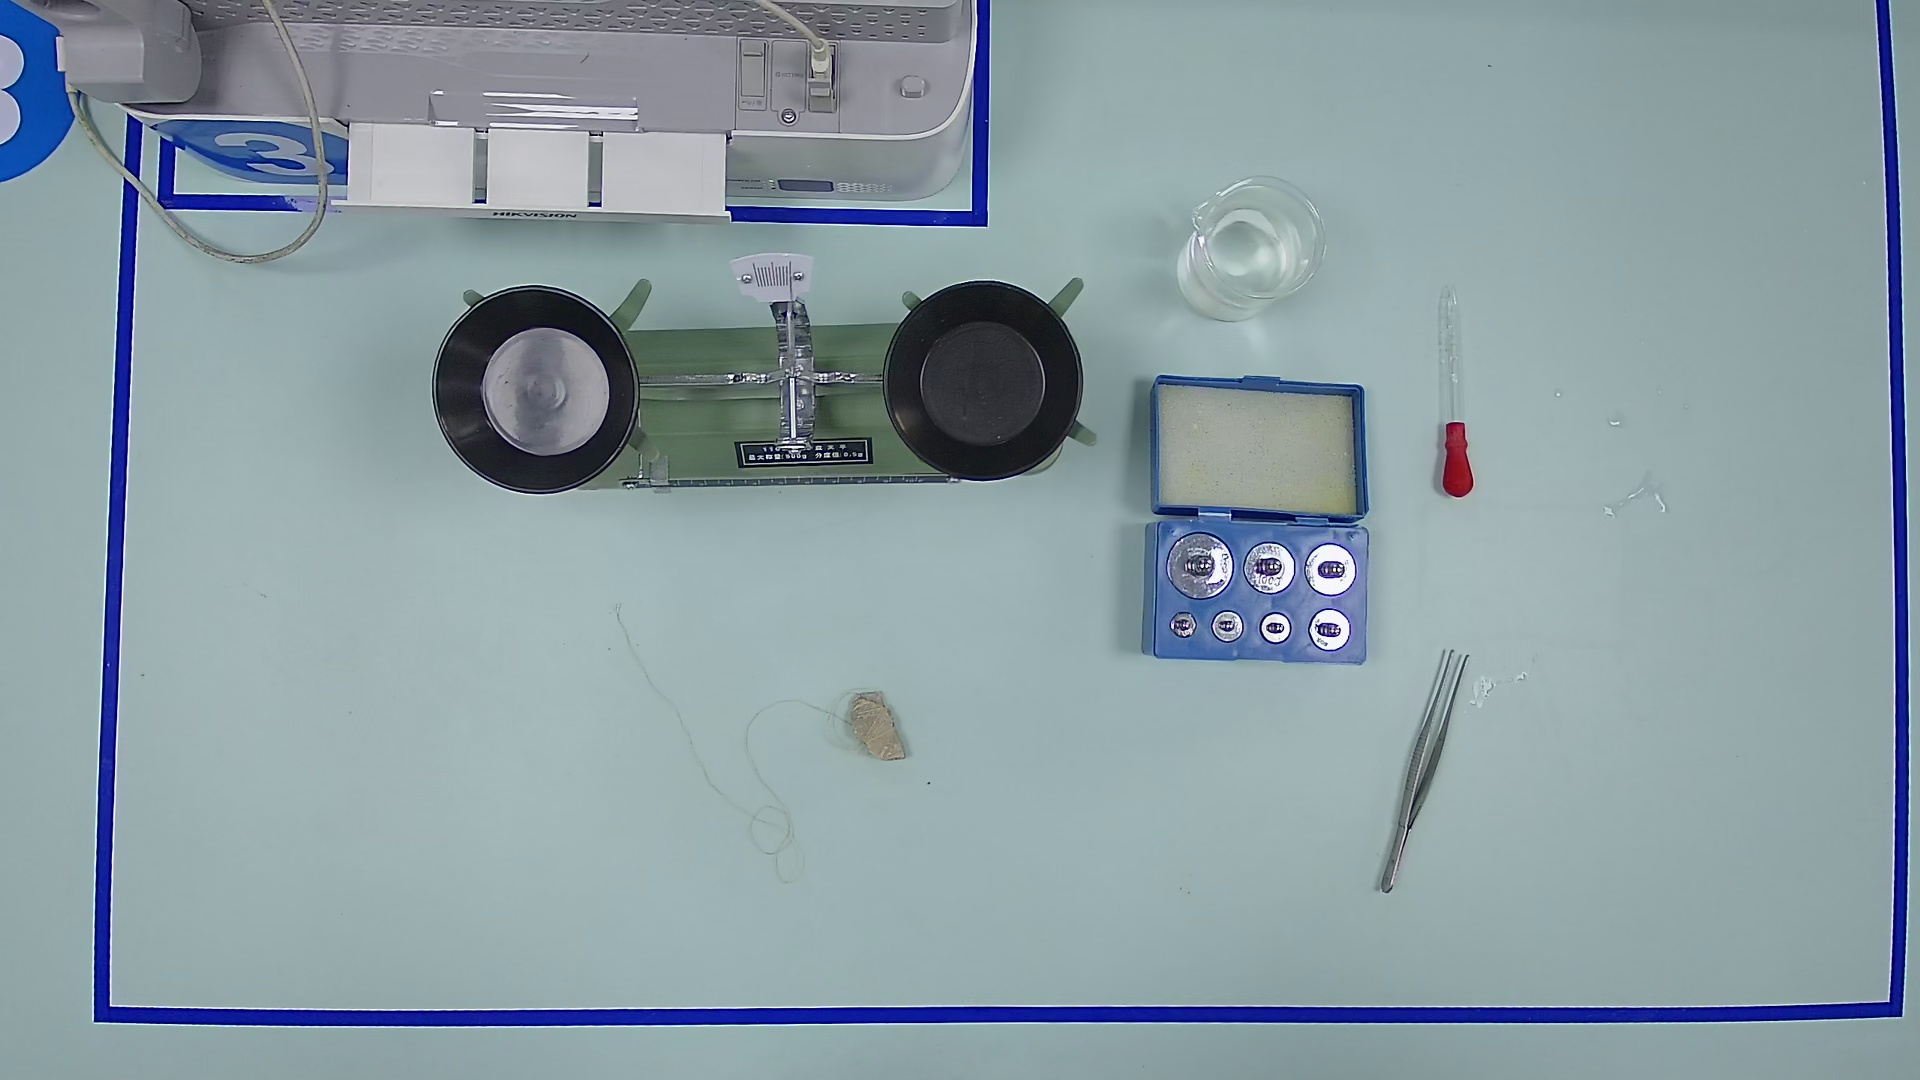bei: (1167, 164, 1329, 334)
diguan: (1411, 264, 1498, 510)
diguantou: (1432, 414, 1487, 505)
fama: (1164, 530, 1233, 601), (1304, 541, 1360, 597), (1245, 541, 1298, 596), (1307, 609, 1352, 651), (1257, 613, 1292, 646), (1211, 611, 1244, 644), (1168, 611, 1197, 640)
gan: (609, 444, 953, 520)
he: (1106, 487, 1418, 680)
niezi: (1367, 647, 1474, 915)
pointer: (733, 248, 812, 301)
shi: (835, 683, 922, 771)
tuo: (860, 255, 1110, 514), (414, 268, 661, 516)
you: (644, 452, 676, 500)
